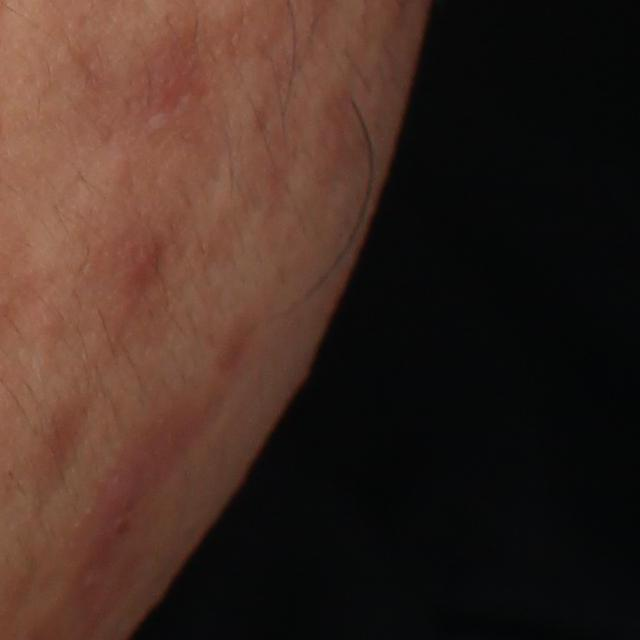papule: (115, 230, 176, 290)
